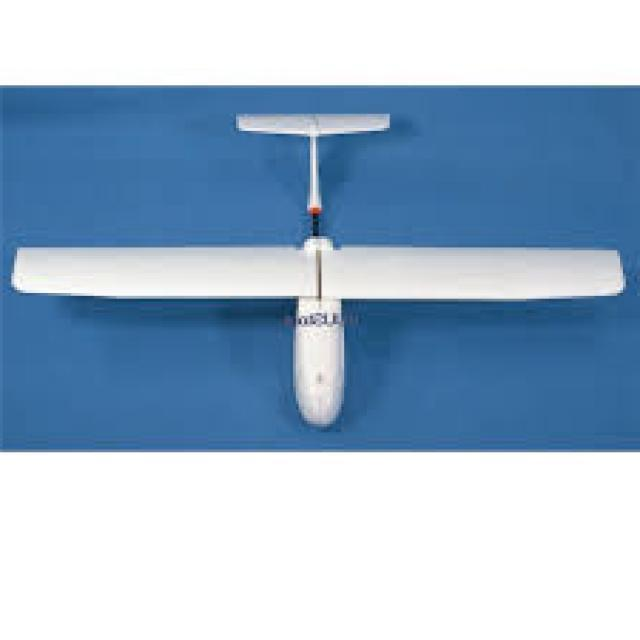UAV: (12, 101, 610, 436)
